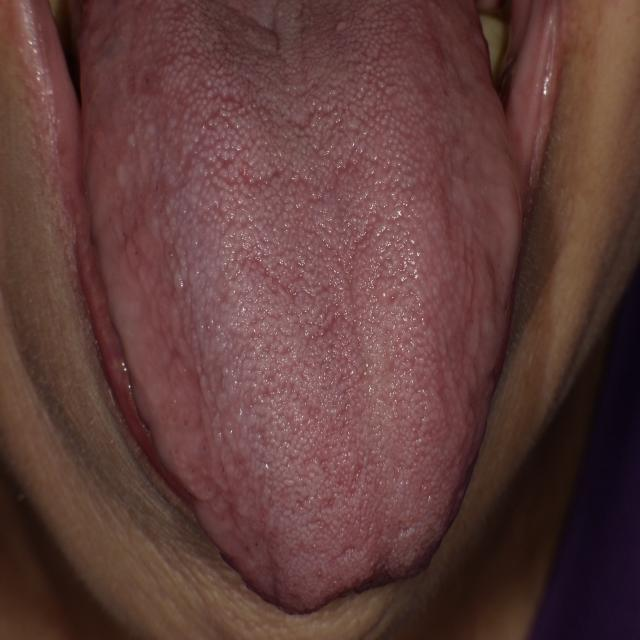baitaishe: (78, 1, 522, 610)
gandanao: (79, 48, 255, 522), (414, 1, 522, 422)
pangdashe: (78, 2, 522, 611)
